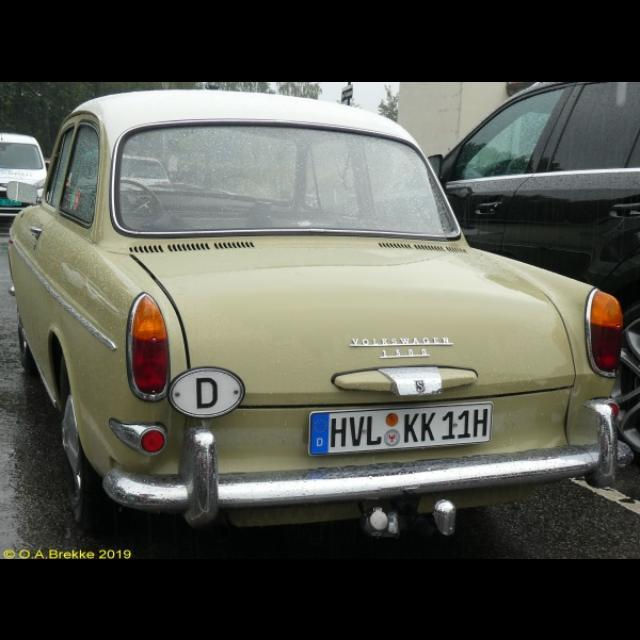license-plates: (309, 403, 494, 456)
